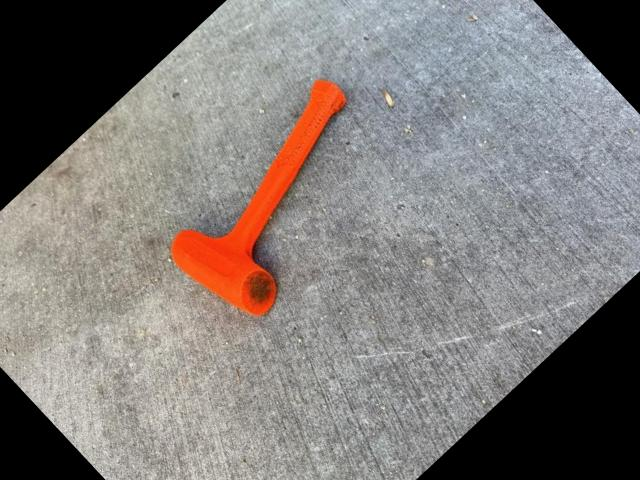hammer: (150, 72, 416, 335)
